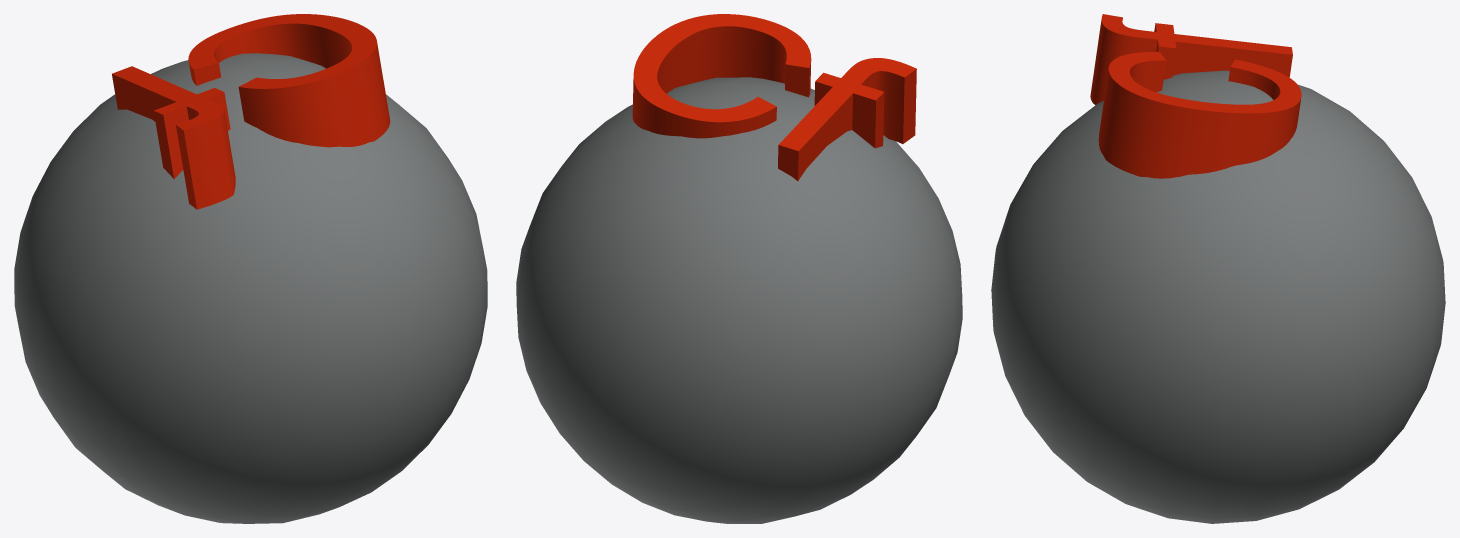
3 renders of one model, left to right at view 1: azimuth 30°, elevation 25°; view 2: azimuth 150°, elevation 25°; view 3: azimuth 270°, elevation 25°, orthographic. The views are drawn at different scales.
Visible parts, largest first — view 1: Cf; view 2: Cf; view 3: Cf.
Part boxes in pixels (<box>): Cf: <box>14,14,487,523</box>; Cf: <box>516,14,962,523</box>; Cf: <box>991,14,1445,523</box>.
Bounding box in the file's own units: 38.61 × 41.87 × 38.66.
